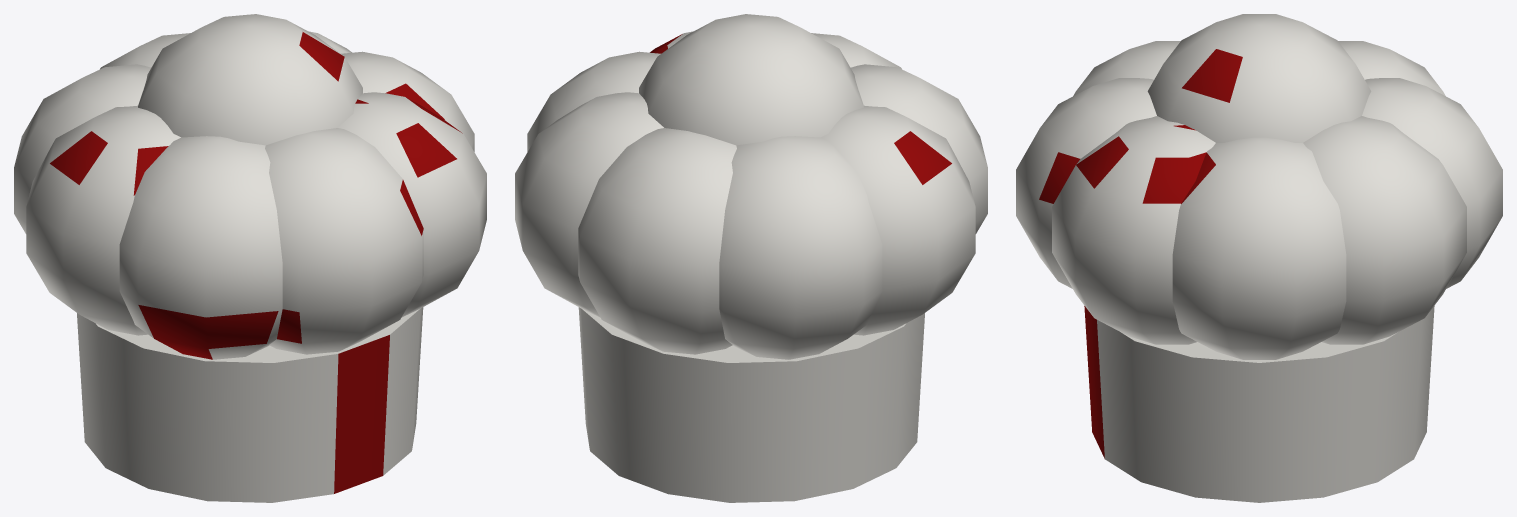
Rendered from hat_chef.glb.
3 views of the same model, side by side, from view 1: azimuth 30°, elevation 25°; view 2: azimuth 150°, elevation 25°; view 3: azimuth 270°, elevation 25° (orthographic).
Parts seen in each view (by area): view 1: hat_chef; view 2: hat_chef; view 3: hat_chef.
Part boxes in pixels (bbox=[...]): hat_chef: bbox=[14, 14, 486, 502]; hat_chef: bbox=[515, 14, 987, 502]; hat_chef: bbox=[1016, 14, 1502, 502].
Bounding box in the file's own units: 0.2698 × 0.255 × 0.2765.
